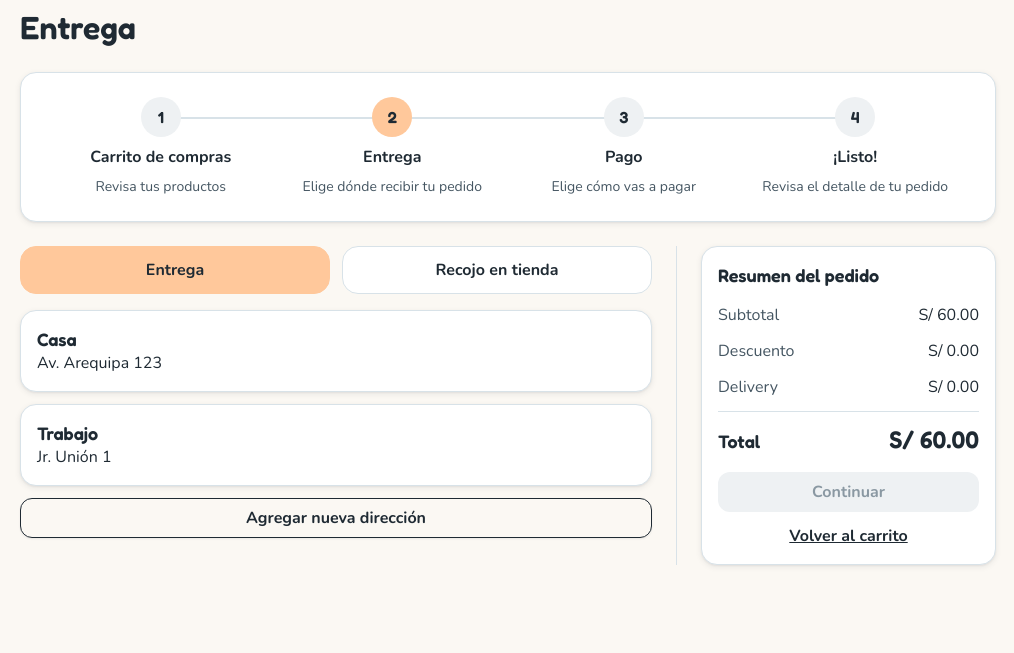
DeliveryStepPage › una dirección fuera de cobertura avisa y muestra S/ 0.00
Click the radio button labelled "Trabajo Jr. Unión 1" at (336, 445), box [20,404,652,486]
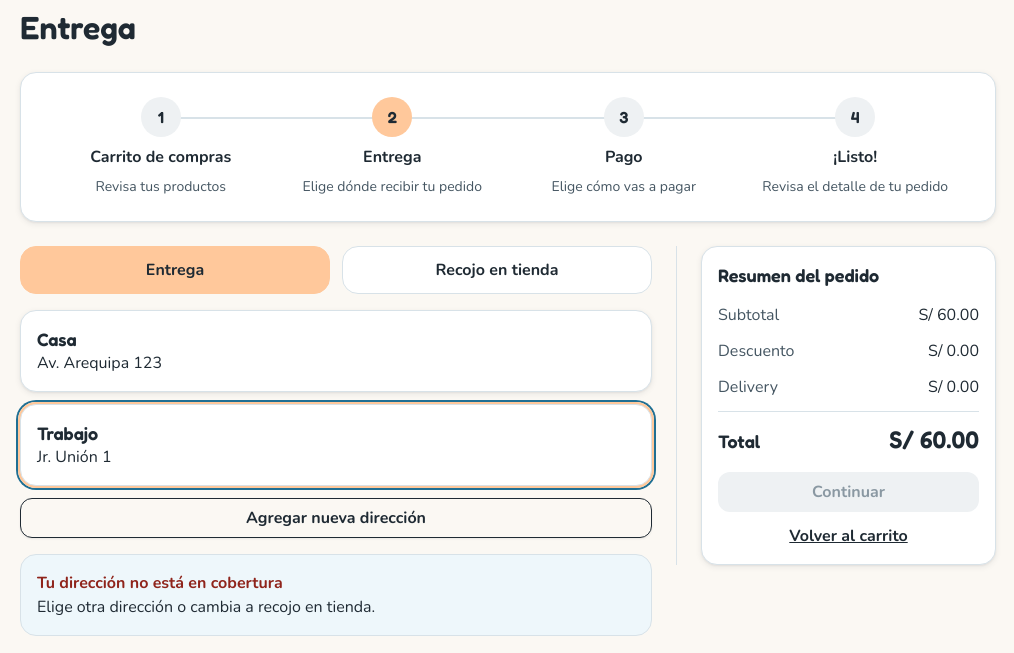
Expected: the text "S/ 0.00" next to "Descuento" is shown, [928,340,979,362]
Now the text "Tu dirección no está en cobertura" is shown, box [37,572,283,594]
